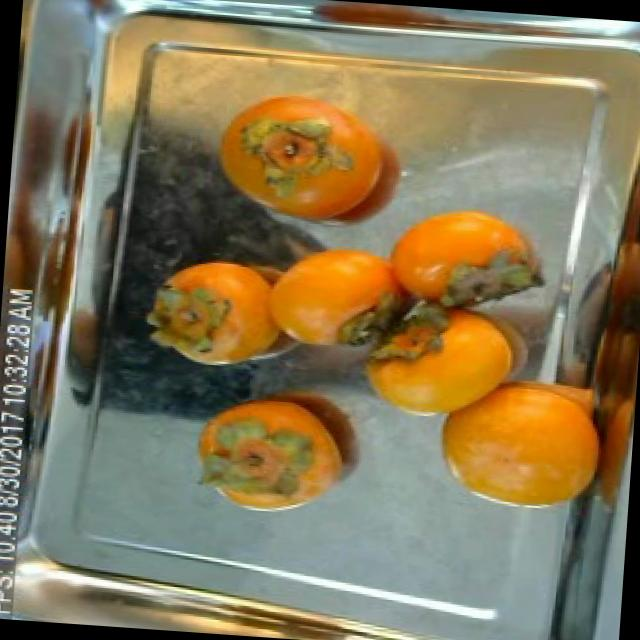Fruit: (416, 366, 630, 526), (127, 239, 330, 386), (178, 371, 366, 527), (363, 186, 570, 326)
